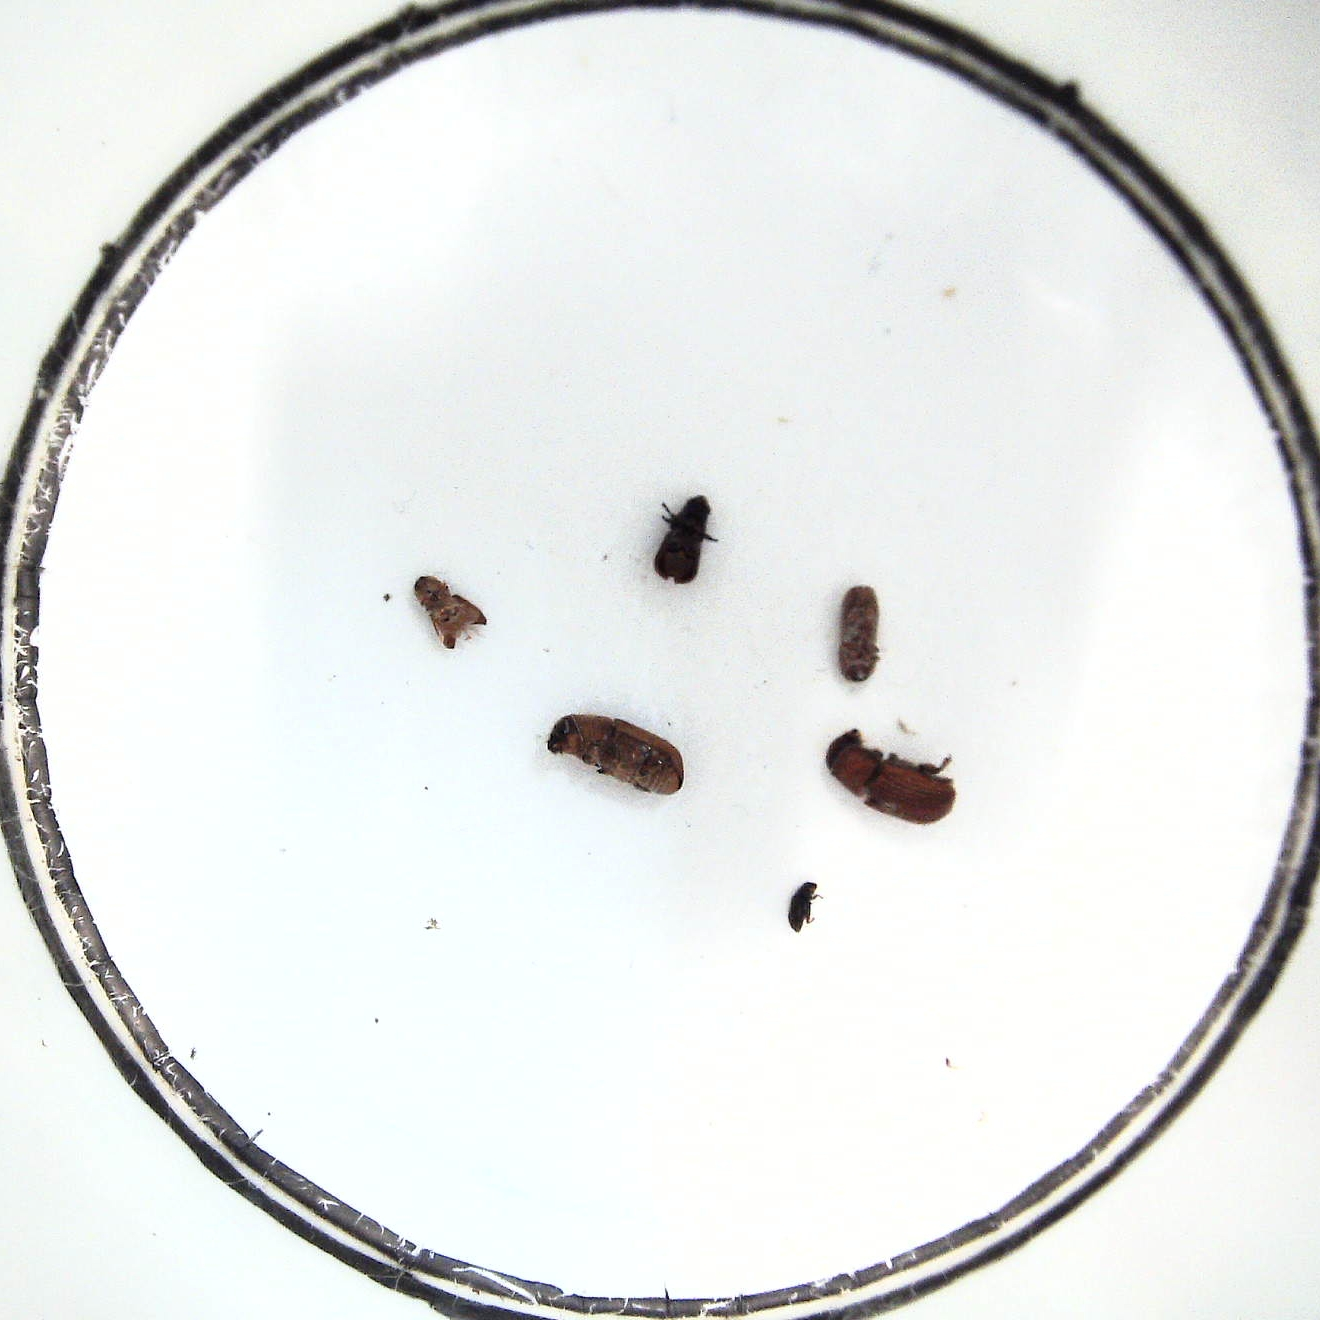Leconte: (823, 724, 957, 824), (543, 710, 687, 803)
Linnaeus: (840, 580, 882, 687)
acuminatus: (411, 575, 487, 650)
armandi: (650, 491, 719, 587)
coleoptera: (788, 879, 824, 933)
